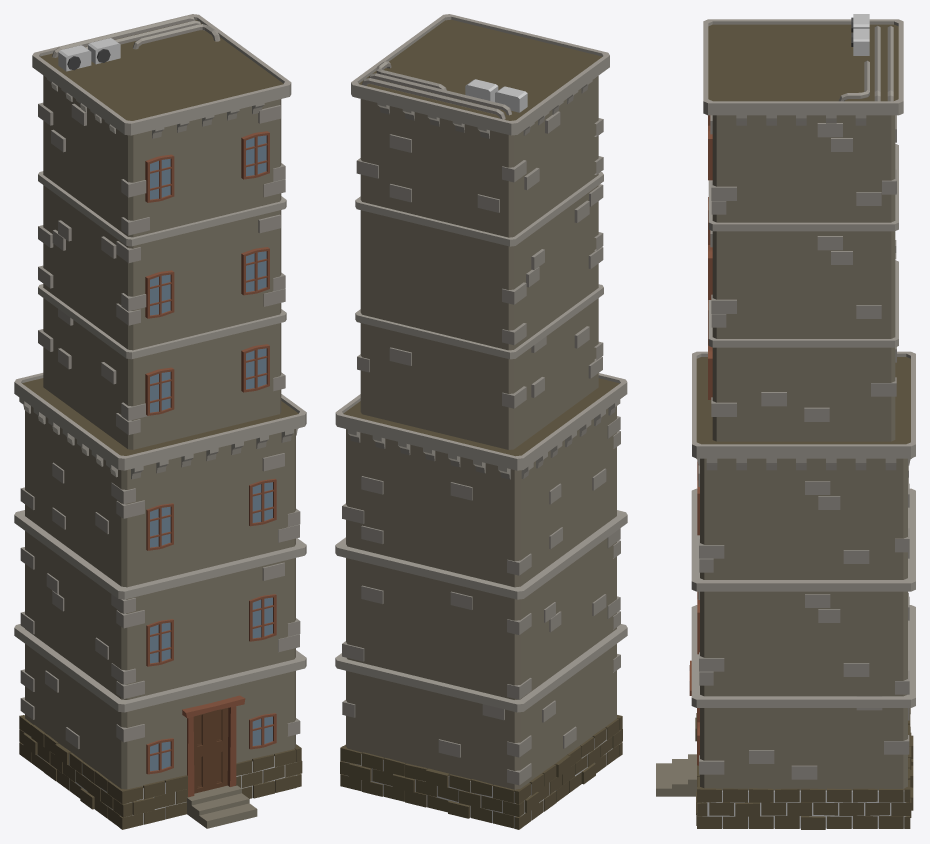
Rendered from 6Story.glb.
3 views of the same model, side by side, from view 1: azimuth 30°, elevation 25°; view 2: azimuth 150°, elevation 25°; view 3: azimuth 270°, elevation 25° (orthographic). The views are drawn at different scales.
Visible parts, largest first — view 1: 6Story_Stack; view 2: 6Story_Stack; view 3: 6Story_Stack.
Part boxes in pixels (left/top/right/bottom): 6Story_Stack: left=14, top=14, right=306, bottom=829; 6Story_Stack: left=335, top=14, right=627, bottom=829; 6Story_Stack: left=656, top=14, right=915, bottom=829.
Size of the model in its own units: 2.16 by 7.8 by 2.5.
Materials: 1 (1 with a texture image).
